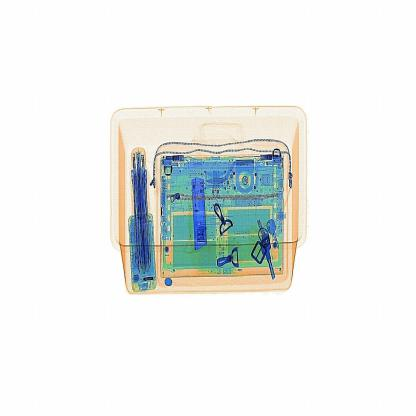pliers: (186, 159, 216, 259)
